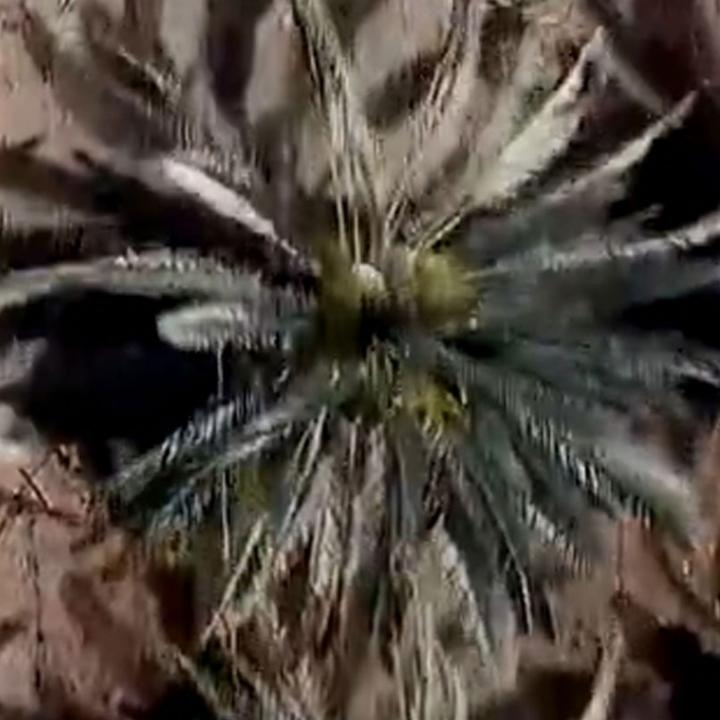Date-Palm-Crown: (226, 160, 528, 454)
